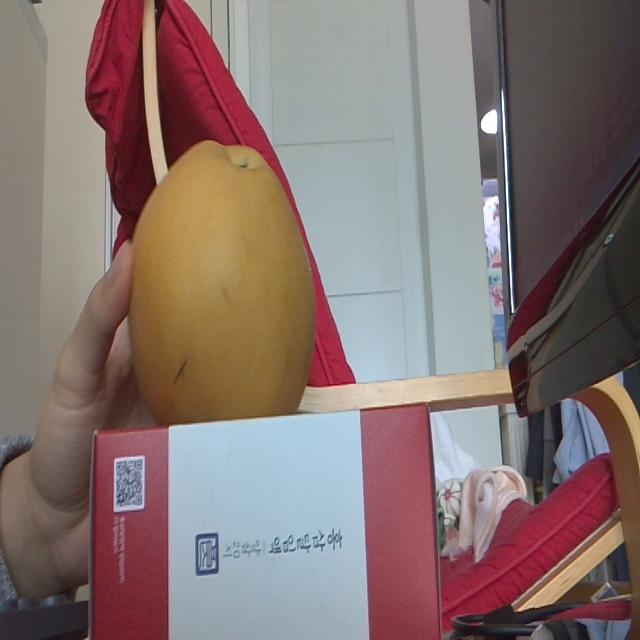pear: (127, 132, 316, 415)
